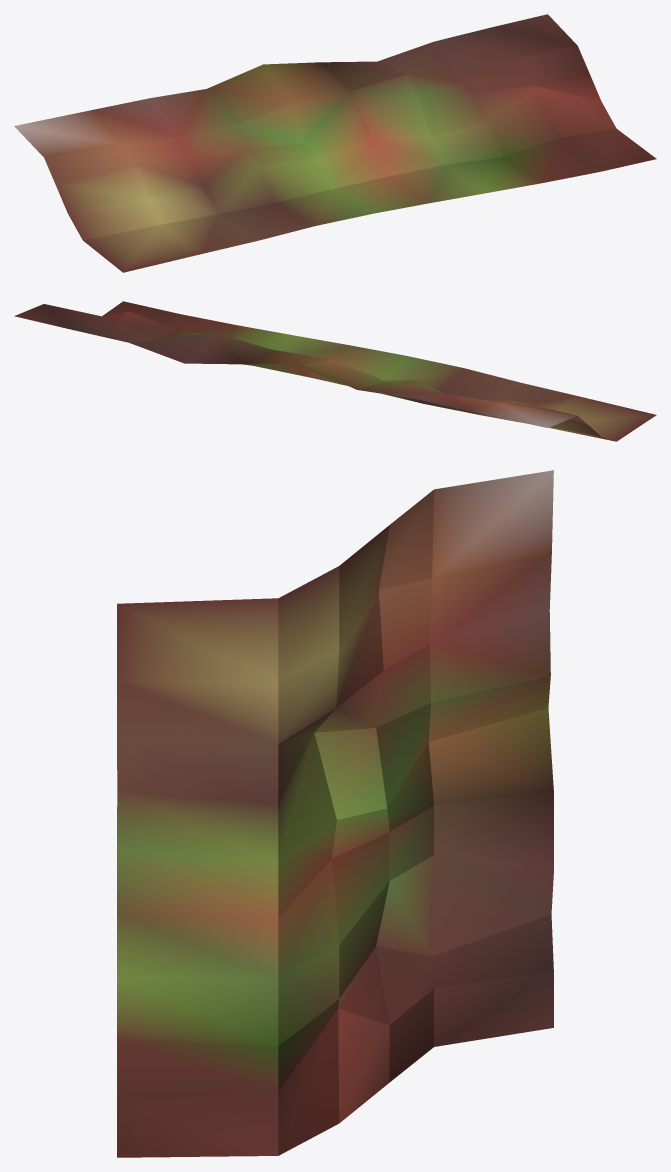
The model's file is TerrainSide2.fbx.
3 renders of one model, top to bottom at view 1: azimuth 30°, elevation 25°; view 2: azimuth 150°, elevation 25°; view 3: azimuth 270°, elevation 25°, orthographic. The views are drawn at different scales.
Visible parts, largest first — view 1: Plane.001; view 2: Plane.001; view 3: Plane.001.
Boxes of the visible parts, left/top/right/bottom form: Plane.001: left=14, top=14, right=656, bottom=272; Plane.001: left=14, top=301, right=656, bottom=441; Plane.001: left=117, top=470, right=553, bottom=1157.
Bounding box in the file's own units: 1000 × 153 × 354.
